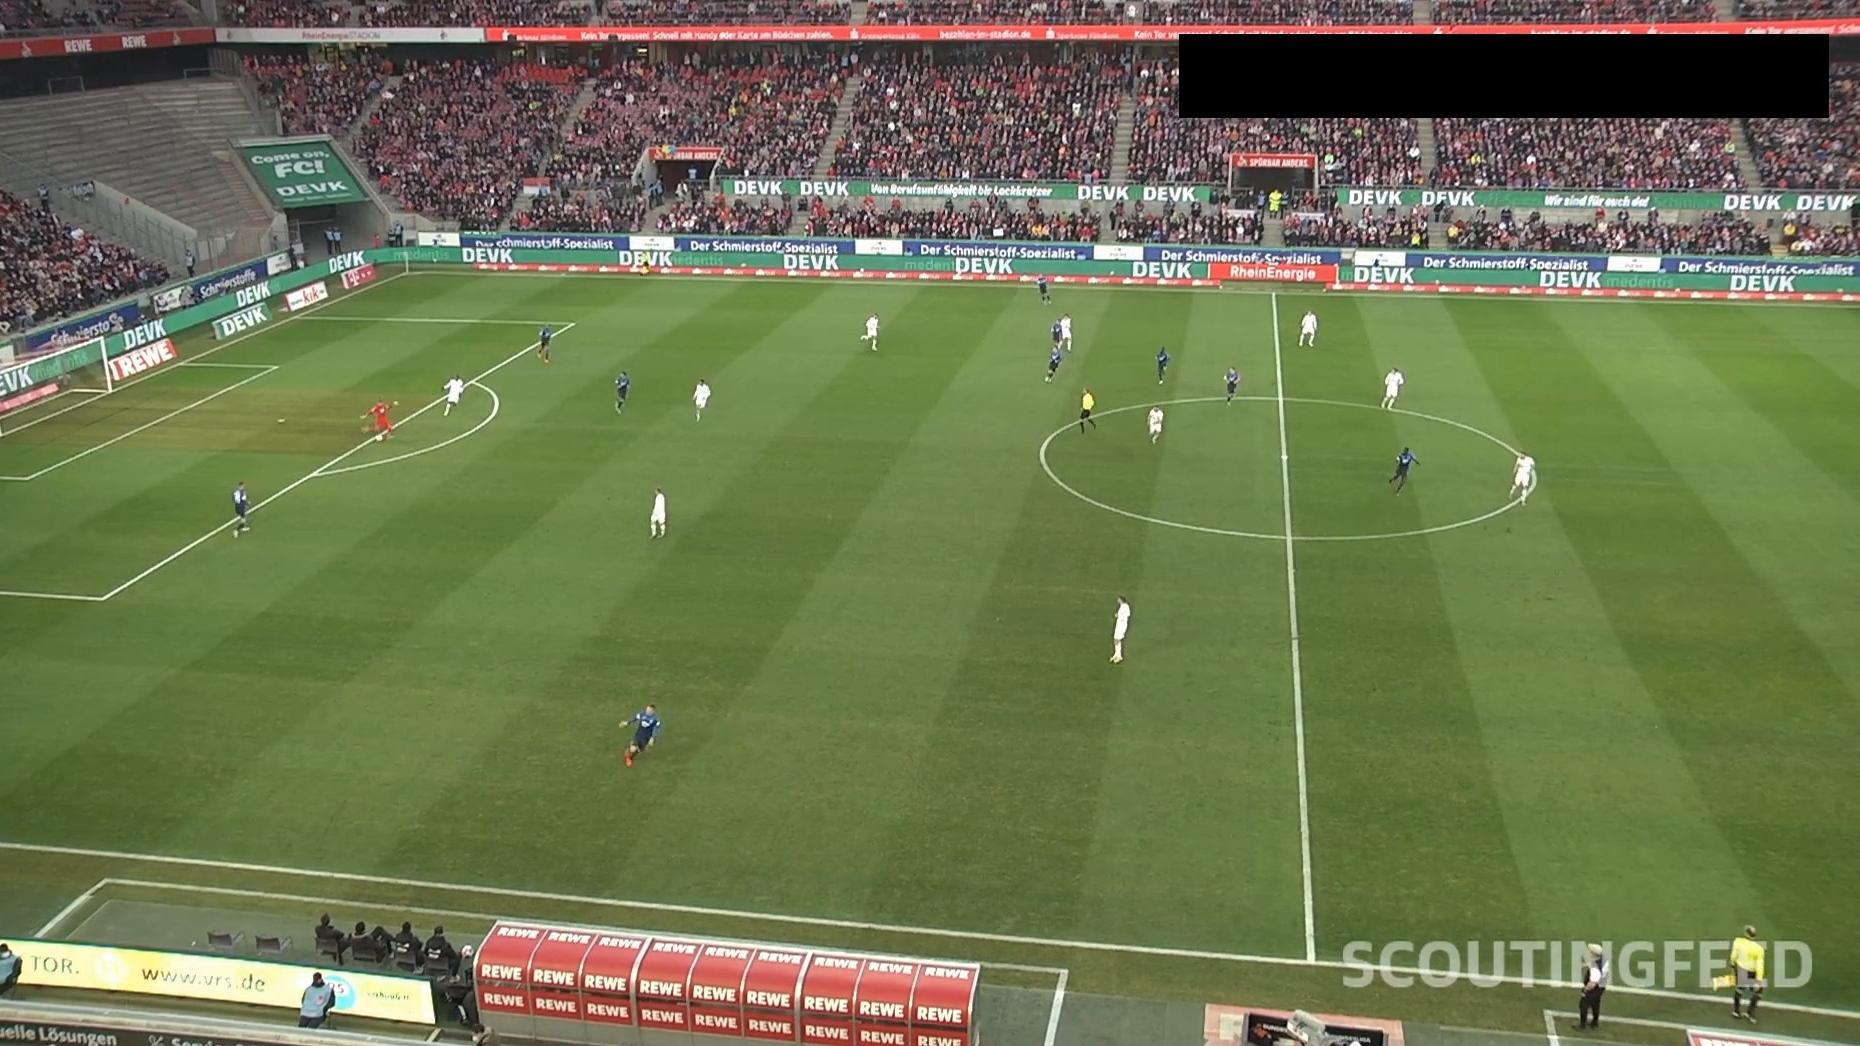ball: (376, 433, 385, 442)
